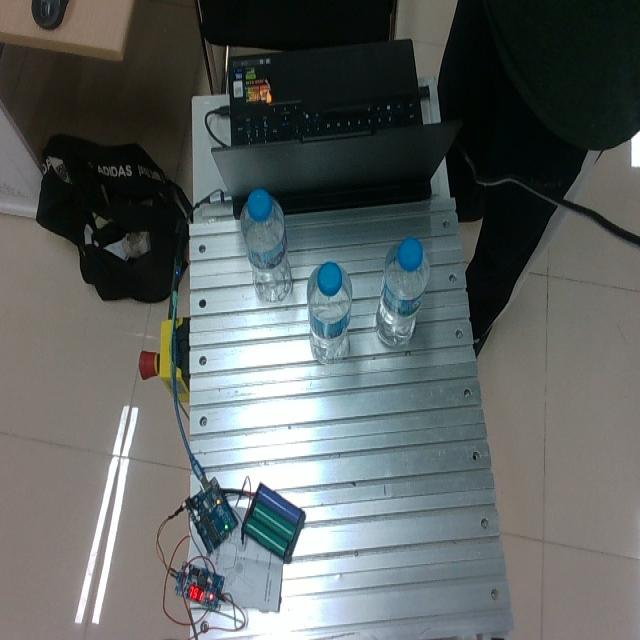lavie: (375, 236, 429, 348), (240, 189, 292, 303), (306, 261, 353, 363)
